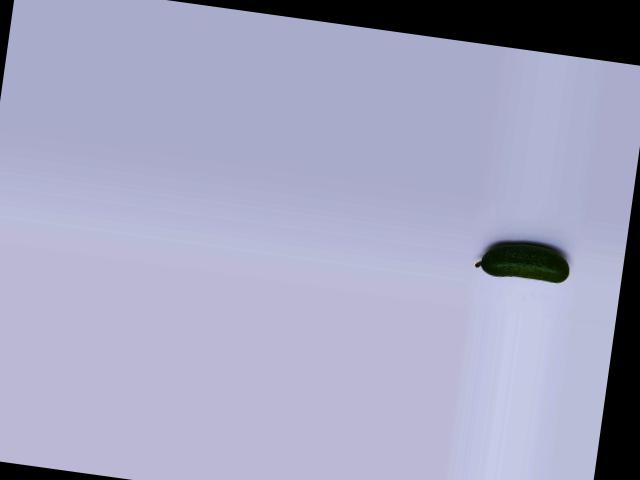cucumber: (474, 237, 572, 285)
